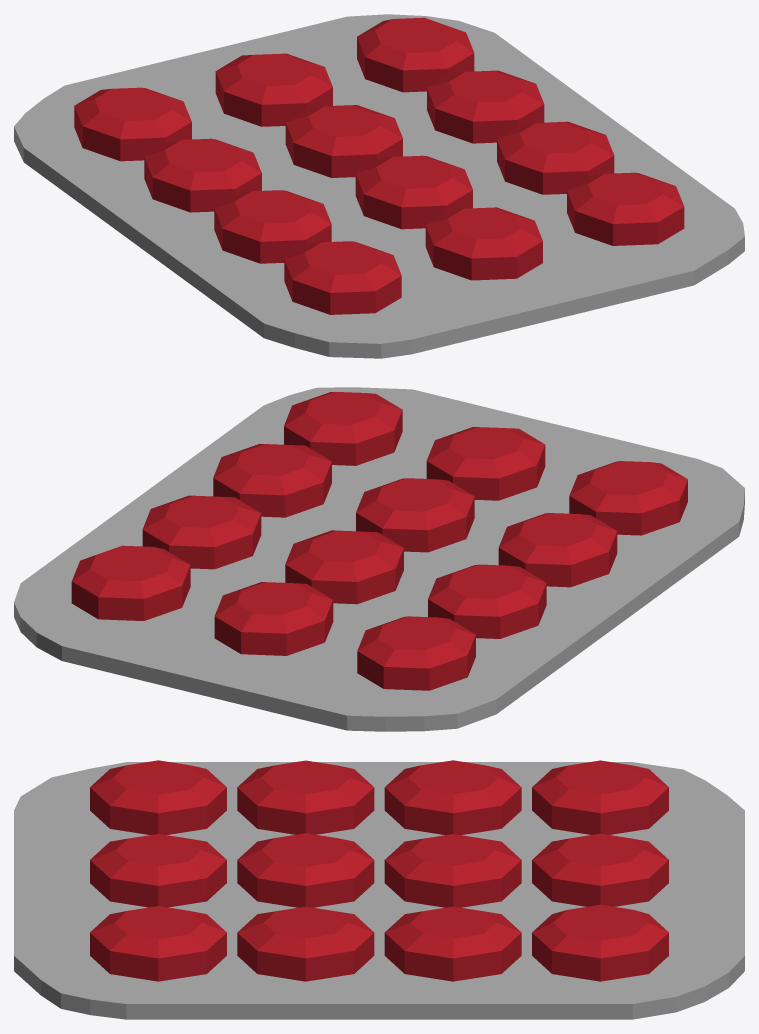
File: TabletkiRed.fbx
3 views of the same model, one above another, from view 1: azimuth 30°, elevation 25°; view 2: azimuth 150°, elevation 25°; view 3: azimuth 270°, elevation 25° (orthographic). The views are drawn at different scales.
Visible parts, largest first — view 1: Cube; view 2: Cube; view 3: Cube.
Boxes of the visible parts, bbox=[...] form: Cube: bbox=[14, 14, 744, 358]; Cube: bbox=[14, 387, 744, 731]; Cube: bbox=[14, 760, 744, 1019].
Bounding box in the file's own units: 135 × 12.64 × 172.
